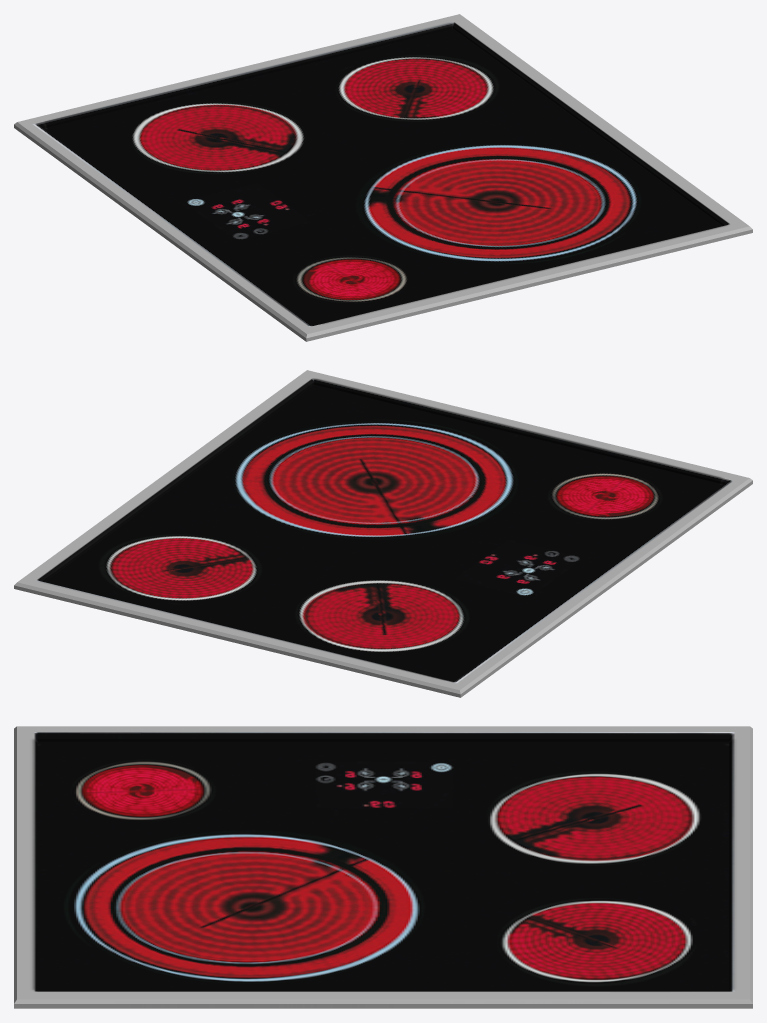
The model's file is Hotplate.FBX.
3 views of the same model, one above another, from view 1: azimuth 30°, elevation 25°; view 2: azimuth 150°, elevation 25°; view 3: azimuth 270°, elevation 25° (orthographic). The views are drawn at different scales.
Parts seen in each view (by area): view 1: hotplate; view 2: hotplate; view 3: hotplate.
Part boxes in pixels (x1,y1,x2,y2): hotplate: (14,14,752,341); hotplate: (14,370,752,697); hotplate: (14,726,752,1008).
Size of the model in its own units: 52.9 by 0.7096 by 59.96.
1 material, 1 textured.
